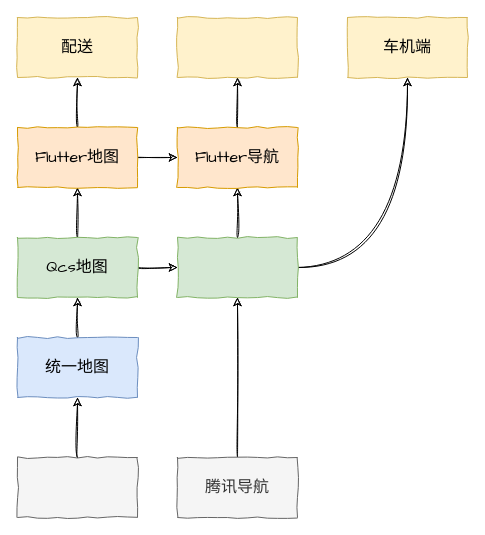
The diagram is 485 pixels wide and 535 high, and some of its shapes have lost their labels. The shapes that lost their labels are listed below. From the top down, each one's box as (x1, y1, x2, y2) in pixels, then its label:
(176, 16, 298, 78): 司机端
(176, 236, 298, 298): Qcs导航
(16, 456, 138, 518): 腾讯地图
